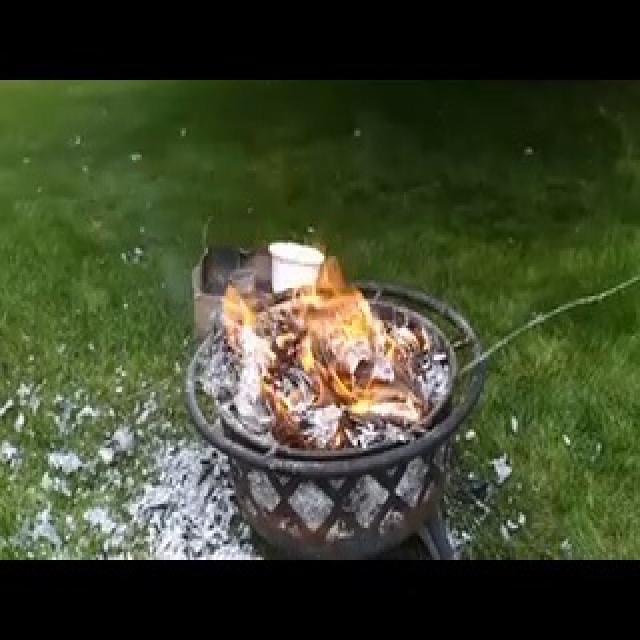fire: (167, 121, 401, 431)
